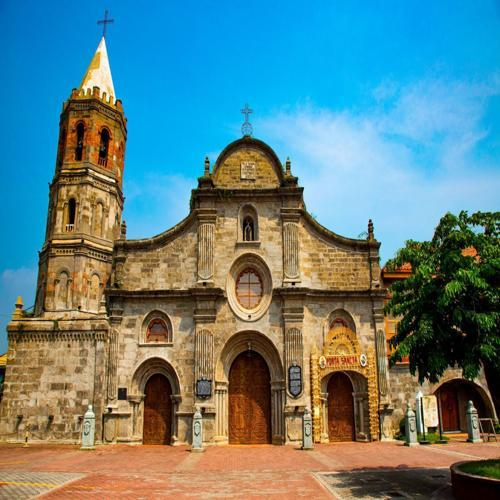Barasoain Church: (8, 5, 390, 449)
